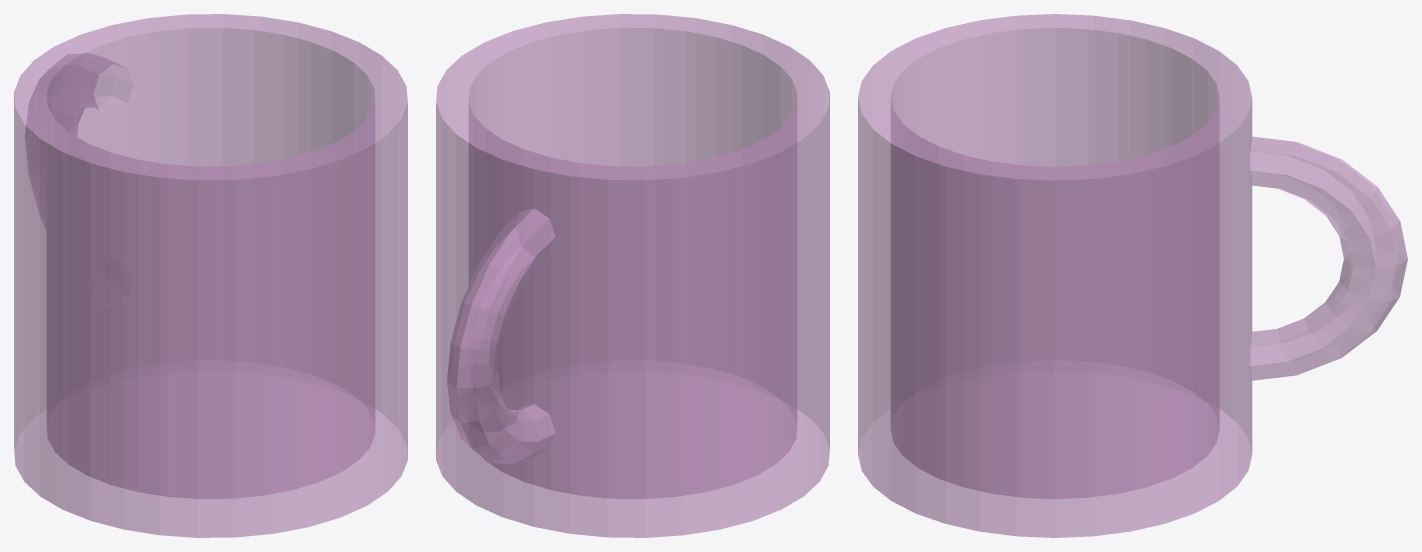
File: cup.dae
The picture shows the model from 3 angles, left to right: view 1: azimuth 30°, elevation 25°; view 2: azimuth 150°, elevation 25°; view 3: azimuth 270°, elevation 25°; orthographic projection.
Visible parts, largest first — view 1: Cylinder; view 2: Cylinder; view 3: Cylinder.
Part boxes in pixels (x1,y1,x2,y2): Cylinder: (14,14,407,537); Cylinder: (436,14,829,537); Cylinder: (858,14,1407,537).
Bounding box in the file's own units: 1.02 × 1.42 × 1.02.
